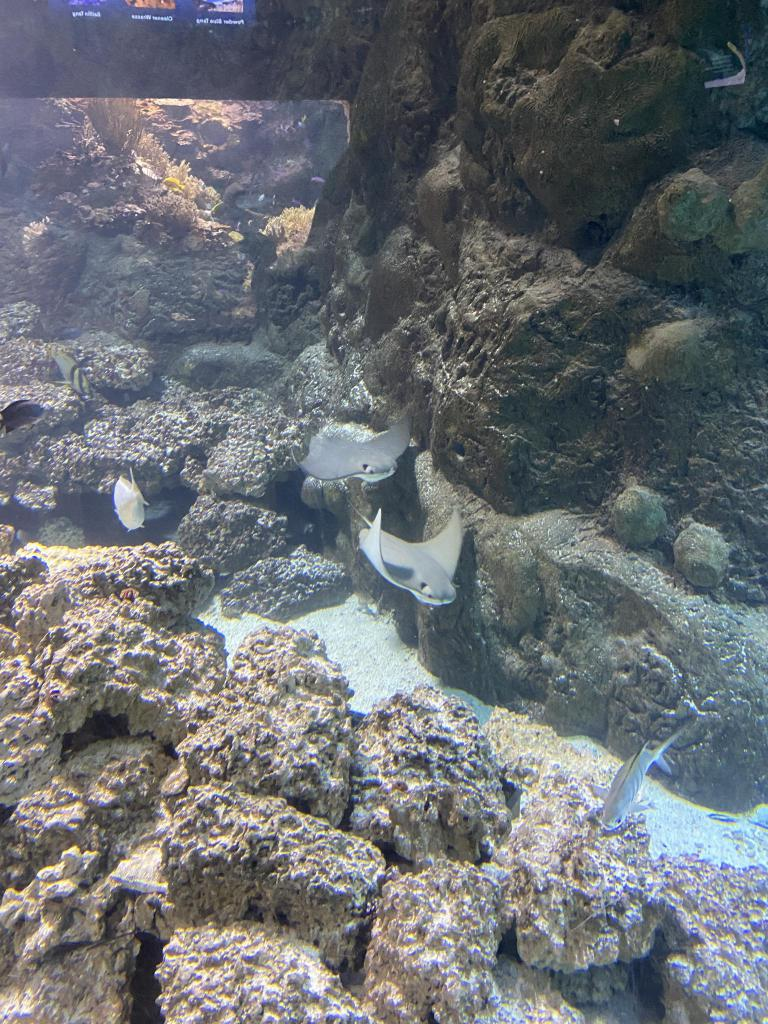fish: (602, 726, 682, 830), (113, 468, 147, 530), (0, 400, 46, 434)
stingray: (358, 507, 462, 605), (297, 425, 413, 483)
